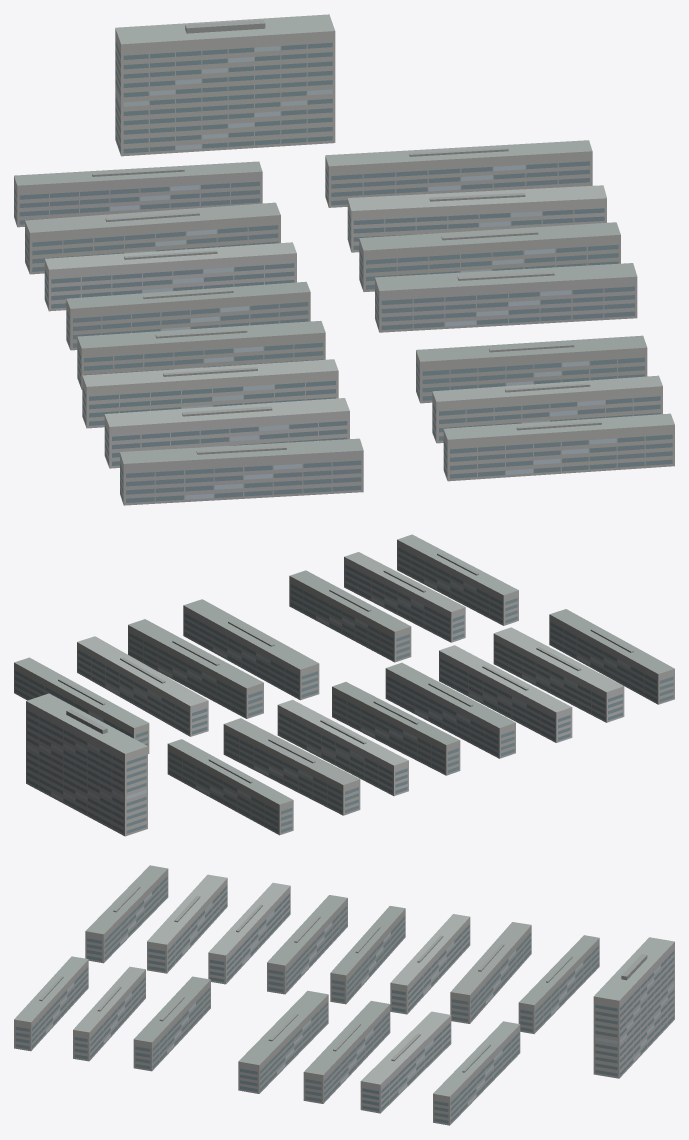
File: apt-a14003008.glb
The picture shows the model from 3 angles, top to bottom: view 1: azimuth 30°, elevation 25°; view 2: azimuth 150°, elevation 25°; view 3: azimuth 270°, elevation 25°; orthographic projection. The views are drawn at different scales.
Visible parts, largest first — view 1: apt-a14003008; view 2: apt-a14003008; view 3: apt-a14003008.
Boxes of the visible parts, bbox=[...] form: apt-a14003008: bbox=[14, 14, 674, 505]; apt-a14003008: bbox=[14, 534, 674, 836]; apt-a14003008: bbox=[14, 865, 674, 1125].
Size of the model in its own units: 261 by 43 by 315.
